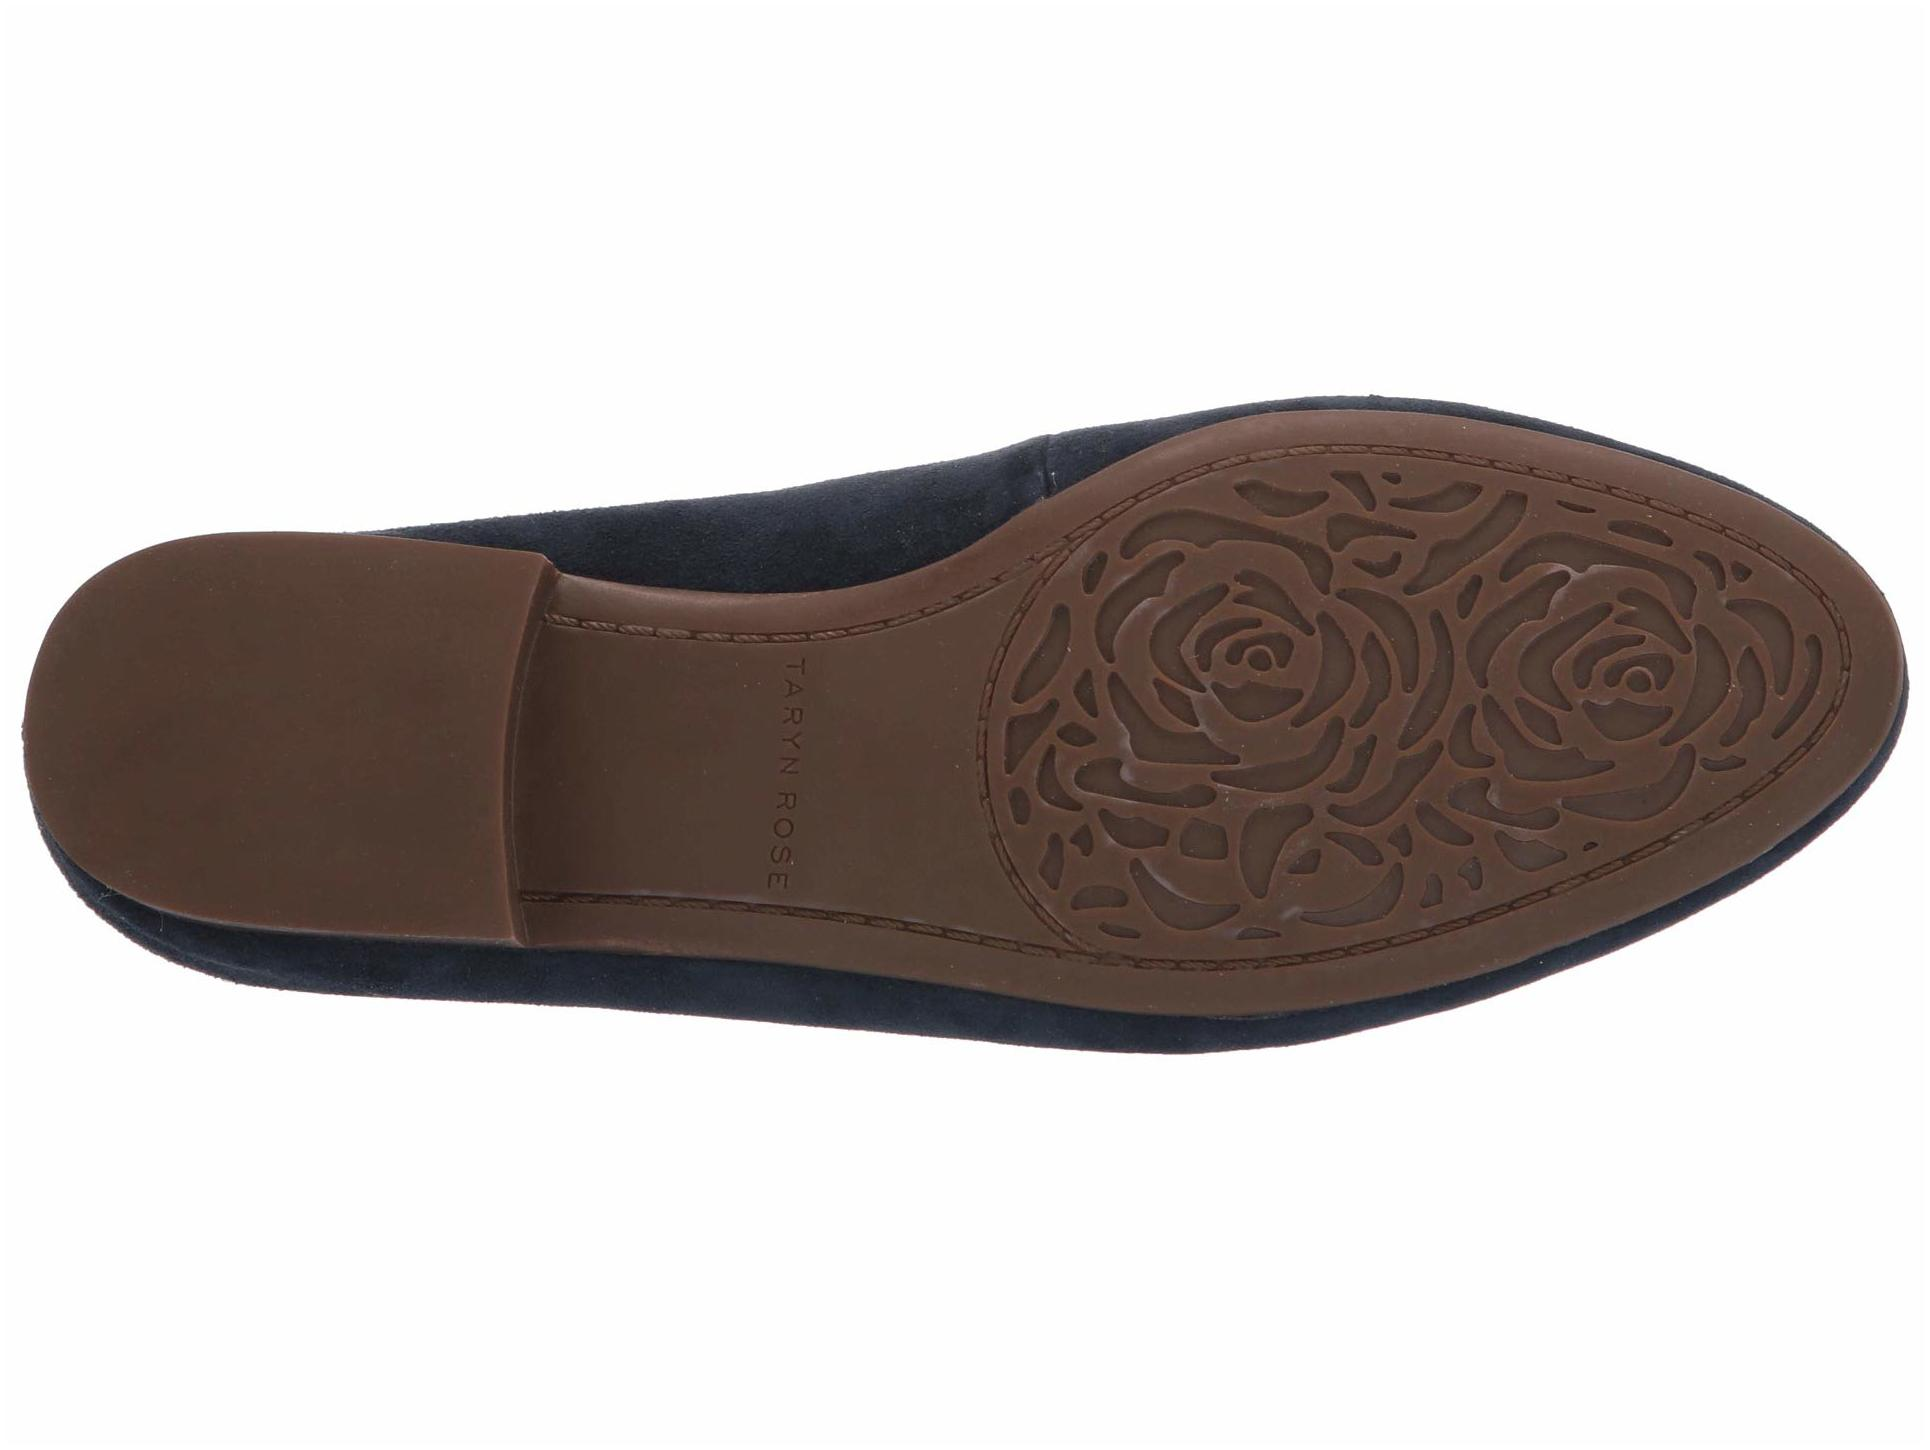other: (1094, 509, 1465, 880), (1479, 535, 1759, 822)
